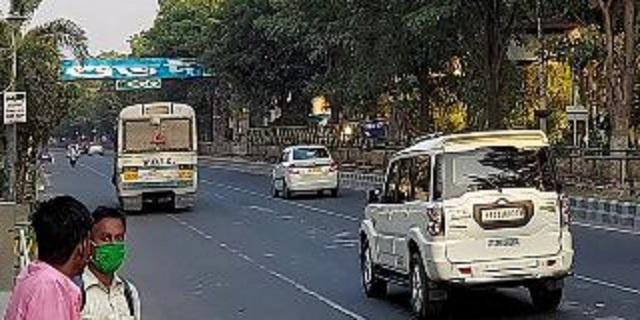Bus: (109, 102, 204, 216)
Car: (354, 126, 581, 319), (269, 144, 340, 198)
